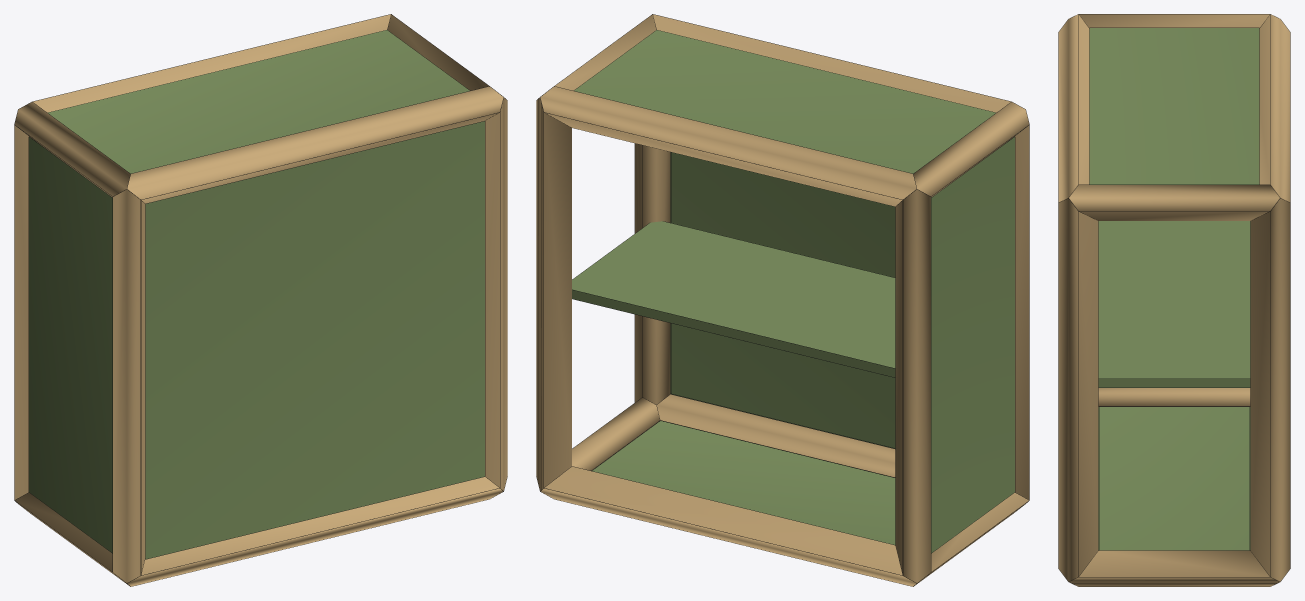
Rendered from meuble-haut-cuisine-600.glb.
3 views of the same model, side by side, from view 1: azimuth 30°, elevation 25°; view 2: azimuth 150°, elevation 25°; view 3: azimuth 270°, elevation 25° (orthographic). The views are drawn at different scales.
Parts seen in each view (by area): view 1: panneau-fond, panneau-joue1, panneau-dessus_interieur, arete-Z0, arete-X2, arete-X0, arete-Z1, arete-Z2, arete-X3, arete-Y2, arete-Y0, arete-Y3 (+4 smaller); view 2: panneau-fond, panneau-joue1, mod-shelf-0, panneau-dessus_interieur, panneau-dessous, arete-Z2, arete-X3, arete-X1, arete-Z3, arete-X0, arete-Z1, arete-Z0 (+9 smaller); view 3: panneau-dessus_interieur, mod-shelf-0, panneau-dessous, arete-Z1, arete-Z3, arete-Y3, arete-Y1, arete-X2, arete-X3, arete-Y0, arete-Y2, arete-wire-Z1 (+7 smaller).
Part boxes in pixels (left/top/right/bottom): panneau-fond: left=145, top=121, right=484, bottom=558; panneau-joue1: left=29, top=137, right=112, bottom=552; panneau-dessus_interieur: left=48, top=30, right=469, bottom=173; arete-Z0: left=113, top=189, right=145, bottom=582; arete-X2: left=127, top=86, right=503, bottom=203; arete-X0: left=127, top=477, right=502, bottom=586; arete-Z1: left=485, top=98, right=507, bottom=490; arete-Z2: left=14, top=125, right=30, bottom=499; arete-X3: left=33, top=14, right=390, bottom=112; arete-Y2: left=14, top=102, right=130, bottom=197; arete-Y0: left=15, top=492, right=127, bottom=584; arete-Y3: left=387, top=14, right=488, bottom=90; panneau-fond: left=670, top=152, right=895, bottom=448; panneau-joue1: left=931, top=137, right=1014, bottom=552; mod-shelf-0: left=572, top=221, right=895, bottom=377; panneau-dessus_interieur: left=574, top=30, right=995, bottom=173; panneau-dessous: left=592, top=421, right=895, bottom=544; arete-Z2: left=895, top=189, right=930, bottom=582; arete-X3: left=540, top=86, right=916, bottom=206; arete-X1: left=541, top=466, right=916, bottom=586; arete-Z3: left=536, top=98, right=571, bottom=490; arete-X0: left=656, top=394, right=895, bottom=477; arete-Z1: left=635, top=143, right=670, bottom=404; arete-Z0: left=1013, top=125, right=1029, bottom=499; panneau-dessus_interieur: left=1089, top=28, right=1259, bottom=184; mod-shelf-0: left=1098, top=221, right=1250, bottom=387; panneau-dessous: left=1098, top=407, right=1250, bottom=550; arete-Z1: left=1058, top=198, right=1098, bottom=581; arete-Z3: left=1250, top=198, right=1290, bottom=581; arete-Y3: left=1069, top=185, right=1279, bottom=220; arete-Y1: left=1069, top=550, right=1279, bottom=586; arete-X2: left=1058, top=14, right=1089, bottom=202; arete-X3: left=1259, top=14, right=1290, bottom=202; arete-Y0: left=1098, top=388, right=1250, bottom=406; arete-Y2: left=1079, top=14, right=1269, bottom=27; arete-wire-Z1: left=1058, top=198, right=1098, bottom=576.
Size of the model in its own units: 0.6288 by 0.6288 by 0.3288.
